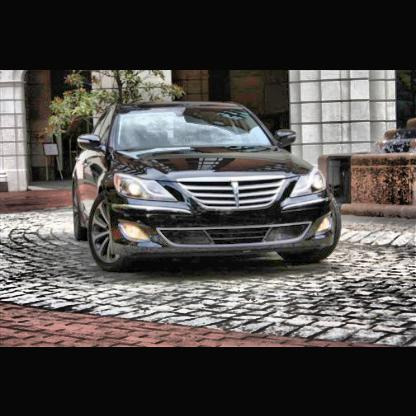Hyundai Genesis Sedan 2012: (74, 103, 342, 275)
